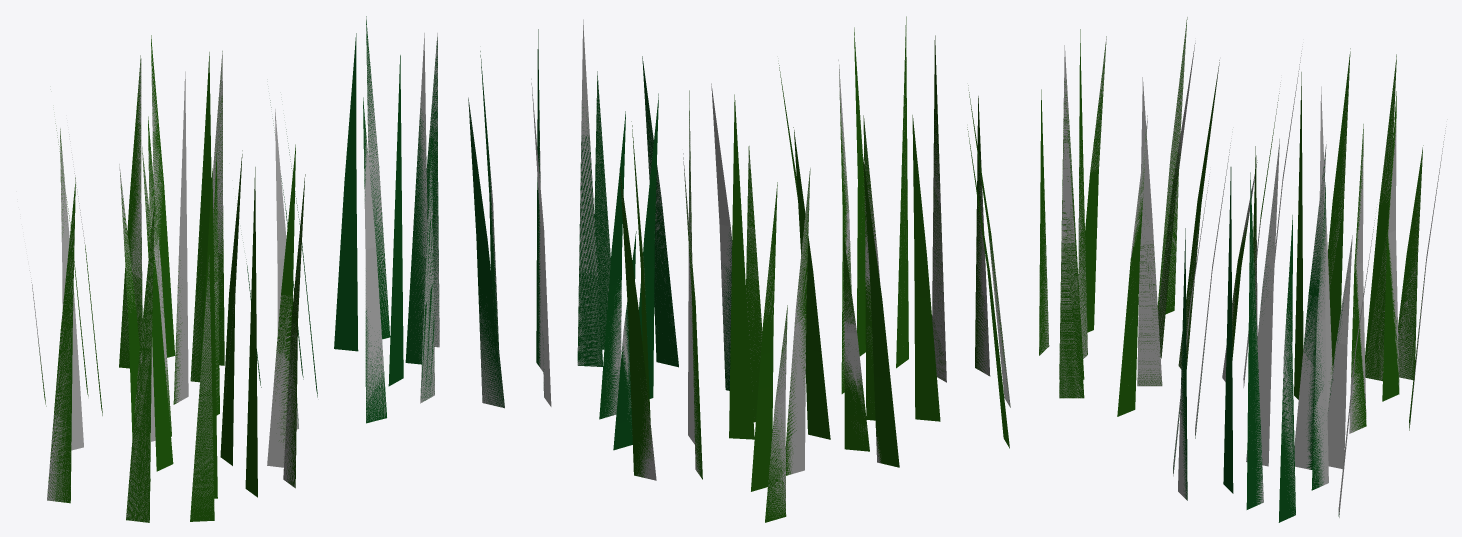
The model's file is Grass_model.fbx.
3 views of the same model, side by side, from view 1: azimuth 30°, elevation 25°; view 2: azimuth 150°, elevation 25°; view 3: azimuth 270°, elevation 25° (orthographic). The views are drawn at different scales.
Parts seen in each view (by area): view 1: Merged_Meshes1, Plane6, Plane25, Plane7, Plane2, Plane32, Plane14, Plane9, Plane21, Plane22, Plane15, Plane (+12 smaller); view 2: Merged_Meshes1, Plane11, Plane8, Plane17, Plane22, Plane26, Plane15, Plane19, Plane30, Plane27, Plane16, Plane (+18 smaller); view 3: Merged_Meshes1, Plane19, Plane3, Plane32, Plane24, Plane18, Plane20, Plane5, Plane6, Plane14, Plane30, Plane7 (+12 smaller).
Part boxes in pixels (bbox=[...]): Merged_Meshes1: bbox=[29, 17, 439, 522]; Plane6: bbox=[126, 197, 154, 522]; Plane25: bbox=[334, 33, 358, 351]; Plane7: bbox=[47, 177, 75, 503]; Plane2: bbox=[190, 254, 214, 521]; Plane32: bbox=[405, 98, 427, 364]; Plane14: bbox=[119, 56, 142, 368]; Plane9: bbox=[142, 148, 173, 471]; Plane21: bbox=[190, 52, 211, 382]; Plane22: bbox=[388, 55, 403, 386]; Plane15: bbox=[151, 35, 174, 357]; Plane: bbox=[245, 167, 257, 497]; Merged_Meshes1: bbox=[468, 19, 1010, 517]; Plane11: bbox=[729, 94, 754, 439]; Plane8: bbox=[912, 115, 940, 421]; Plane17: bbox=[863, 157, 899, 467]; Plane22: bbox=[577, 104, 602, 366]; Plane26: bbox=[468, 98, 504, 408]; Plane15: bbox=[619, 168, 653, 477]; Plane19: bbox=[751, 182, 777, 491]; Plane30: bbox=[599, 111, 625, 419]; Plane27: bbox=[642, 56, 678, 367]; Plane16: bbox=[793, 127, 830, 439]; Plane: bbox=[896, 16, 908, 368]; Merged_Meshes1: bbox=[1039, 18, 1446, 517]; Plane19: bbox=[1365, 55, 1396, 381]; Plane3: bbox=[1059, 101, 1084, 398]; Plane32: bbox=[1246, 172, 1263, 509]; Plane24: bbox=[1278, 215, 1295, 522]; Plane18: bbox=[1328, 48, 1350, 369]; Plane20: bbox=[1398, 145, 1423, 379]; Plane5: bbox=[1117, 129, 1146, 416]; Plane6: bbox=[1085, 36, 1106, 332]; Plane14: bbox=[1382, 91, 1399, 401]; Plane30: bbox=[1302, 155, 1325, 469]; Plane7: bbox=[1157, 17, 1187, 313].
Size of the model in its own units: 2.32 by 1.74 by 1.81.
